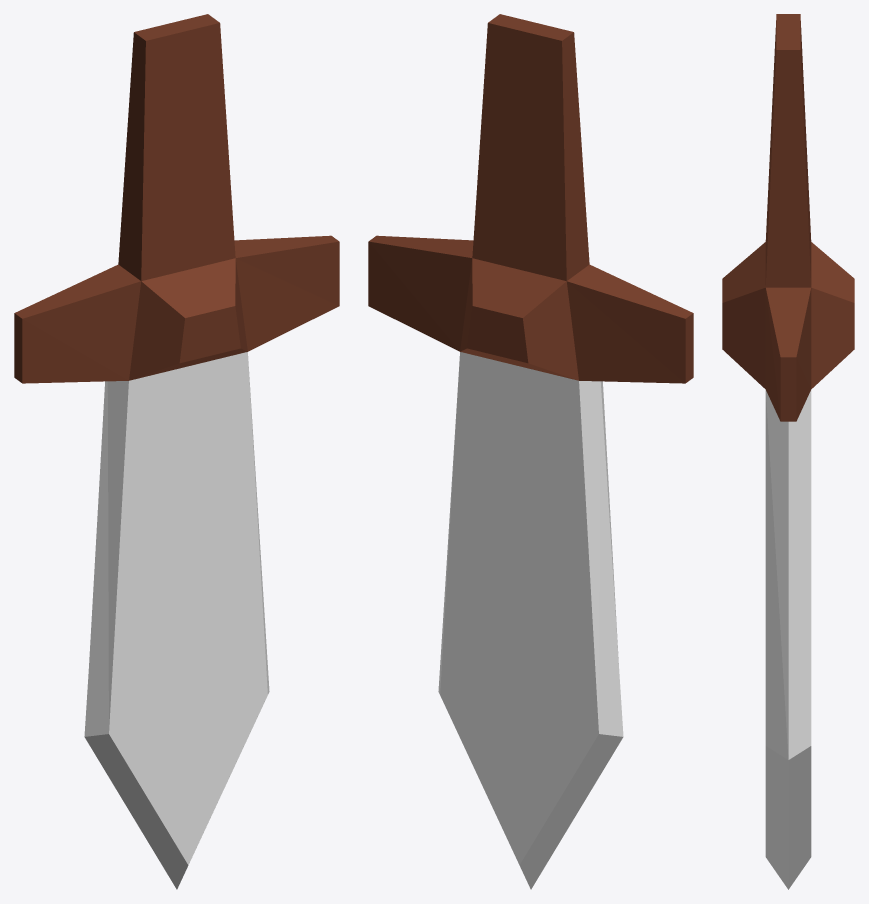
The model's file is 3D_Sword.FBX.
3 views of the same model, side by side, from view 1: azimuth 30°, elevation 25°; view 2: azimuth 150°, elevation 25°; view 3: azimuth 270°, elevation 25° (orthographic).
Visible parts, largest first — view 1: 3D_Sword; view 2: 3D_Sword; view 3: 3D_Sword.
Part boxes in pixels (<box>): 3D_Sword: <box>14,14,339,889</box>; 3D_Sword: <box>368,14,693,889</box>; 3D_Sword: <box>722,14,854,889</box>.
Size of the model in its own units: 32 by 83.18 by 11.63.
1 material, 1 textured.
